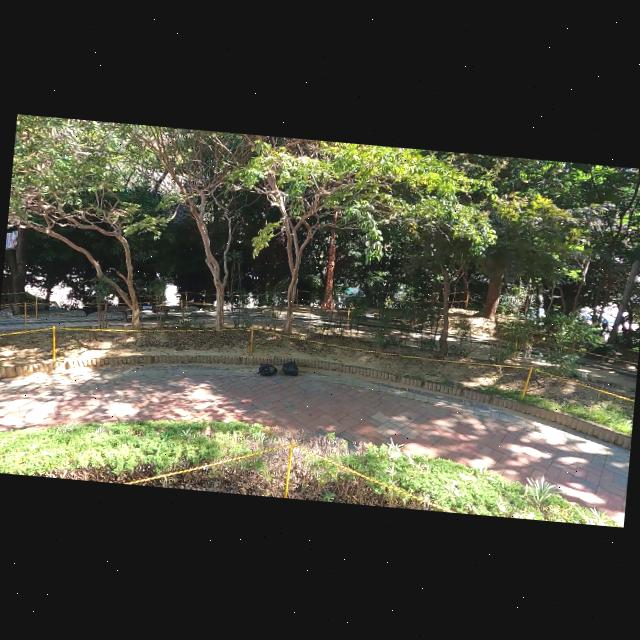trash: (257, 361, 278, 376), (282, 358, 298, 376)
